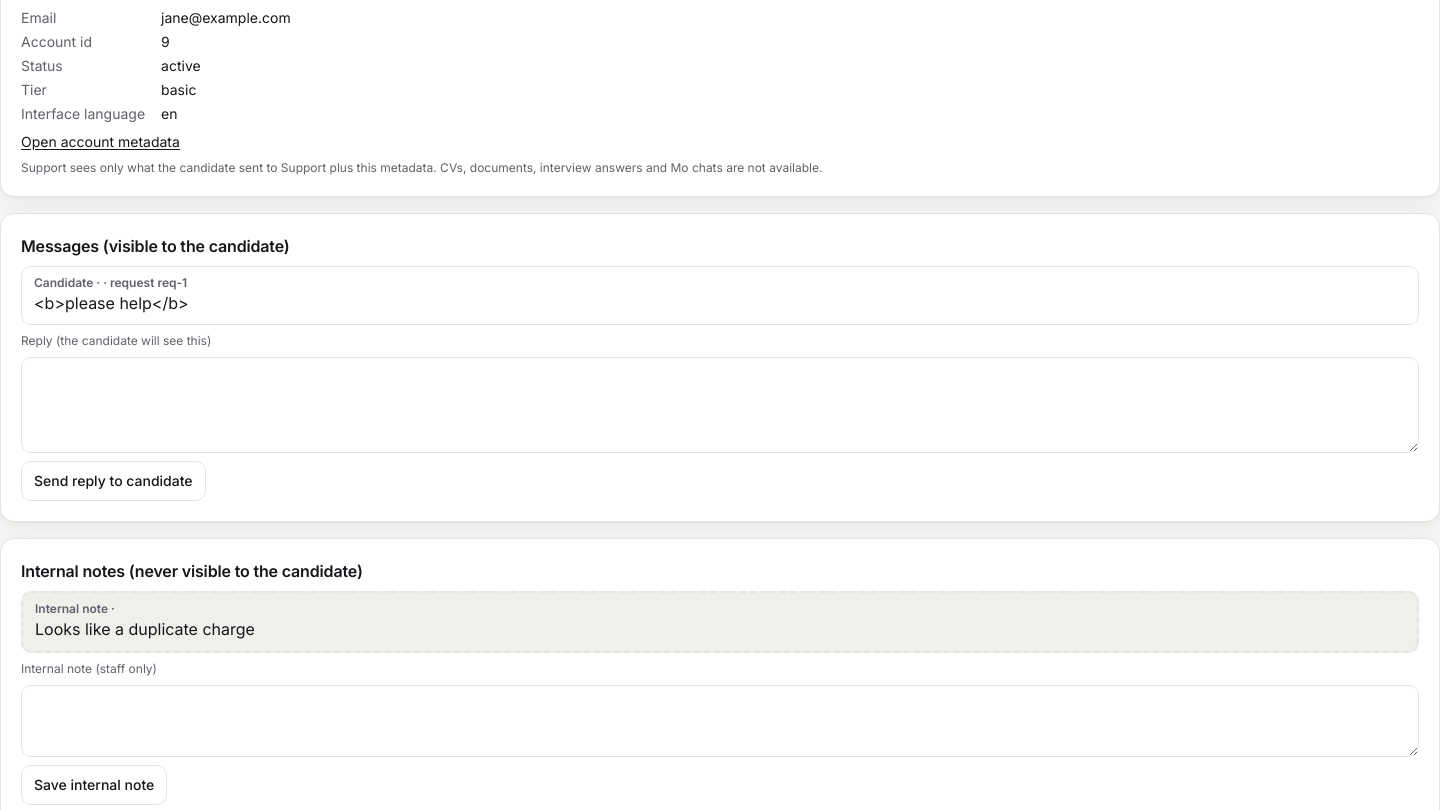
Test: Support ticket detail › sends a customer-visible reply and saves a separate internal note
(page scrolled)
In the text box labelled "Reply (the candidate will see this)": (720, 405) [21,357,1419,453], type "We refunded the duplicate."
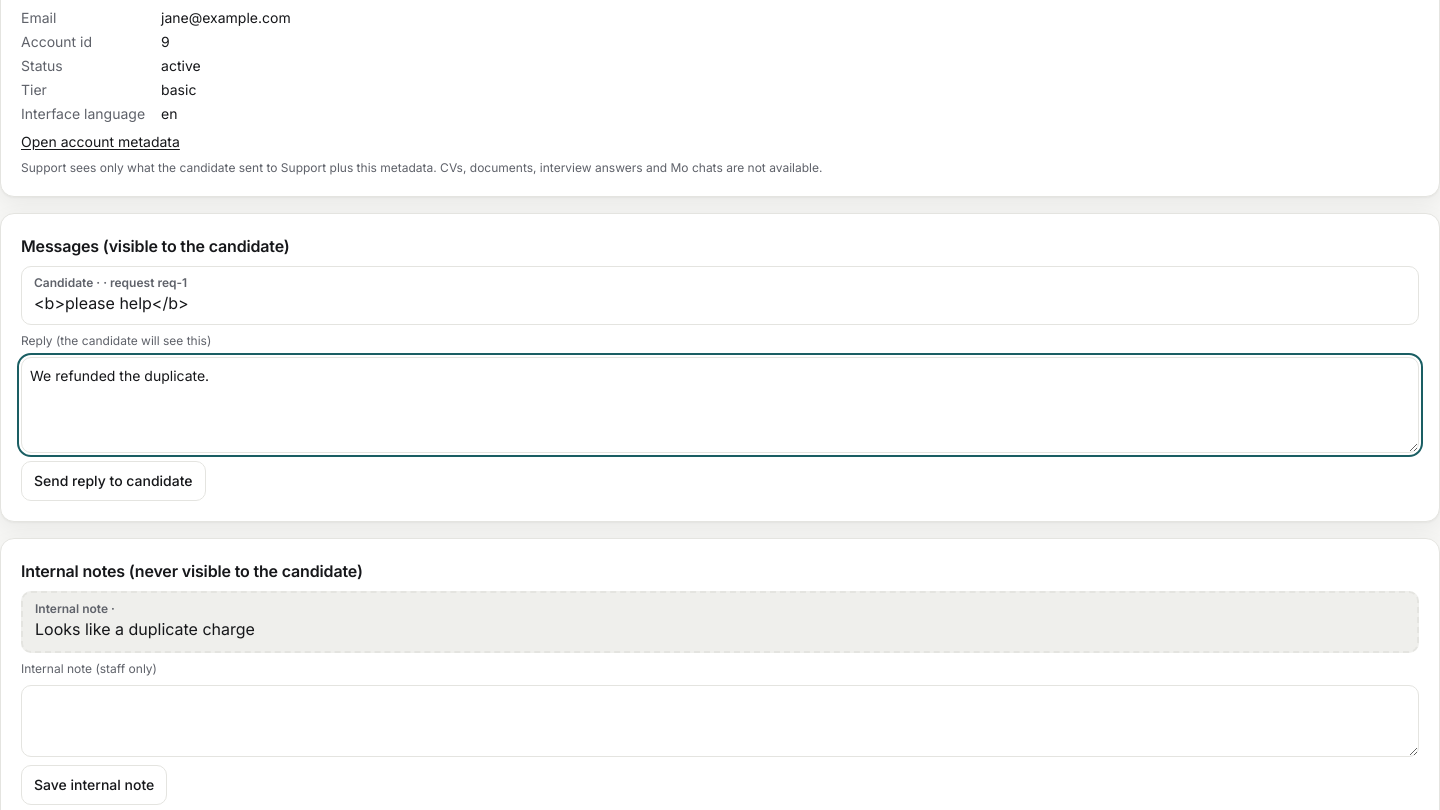
Click the button "Send reply to candidate": (113, 481) [21,461,206,501]
(page scrolled)
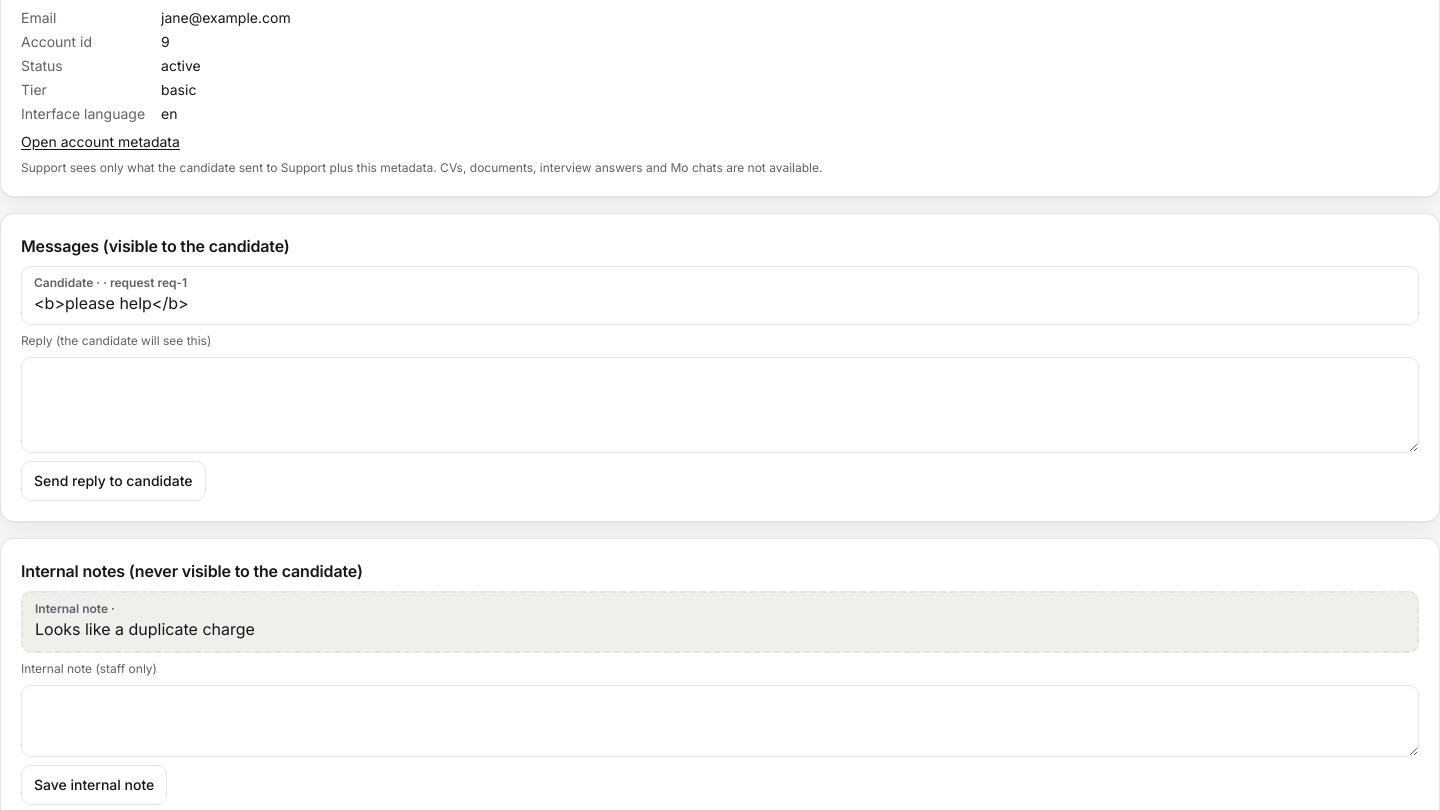
In the text box labelled "Internal note (staff only)": (720, 721) [21,685,1419,757], type "Checked billing logs"
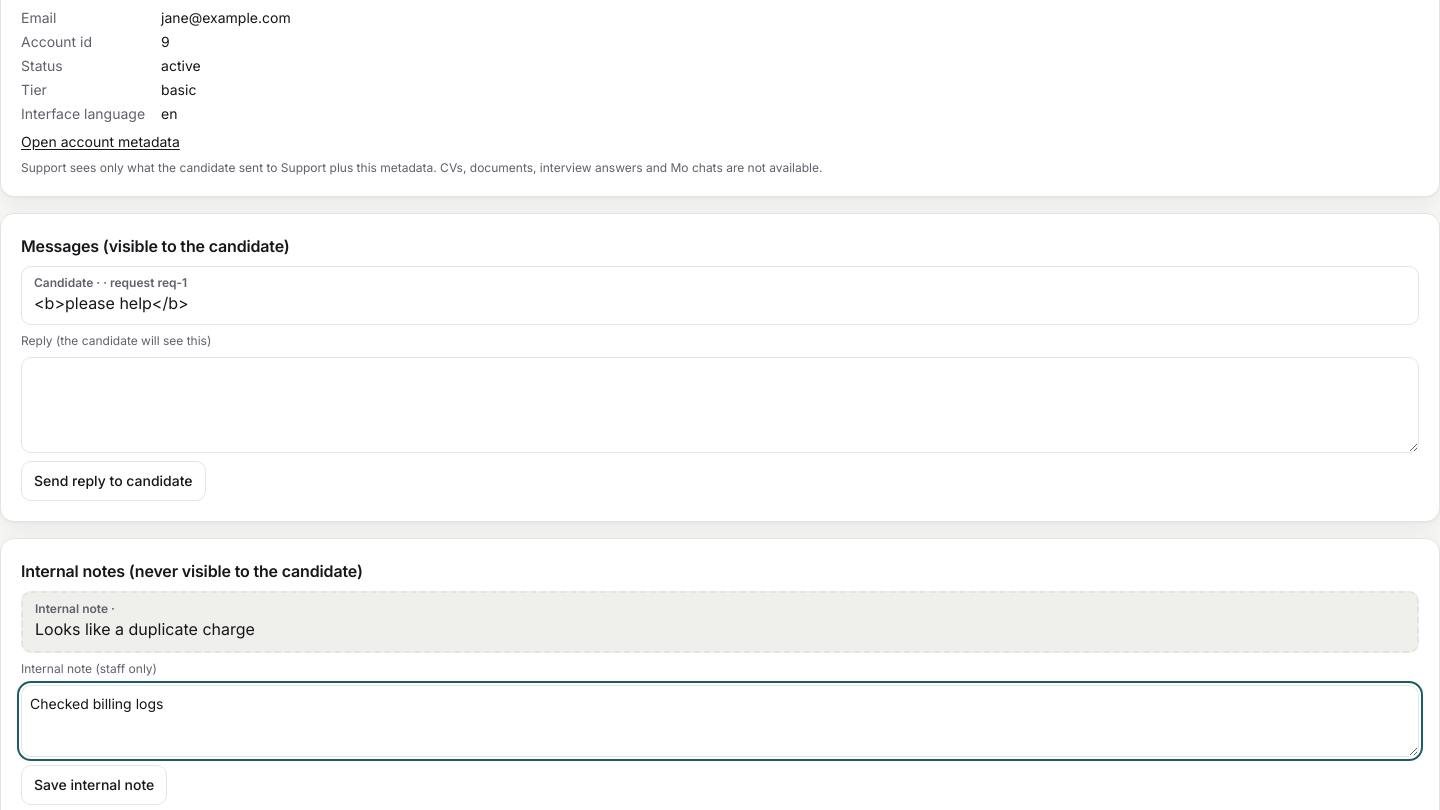
Click the button "Save internal note": (94, 785) [21,765,167,805]
(page scrolled)
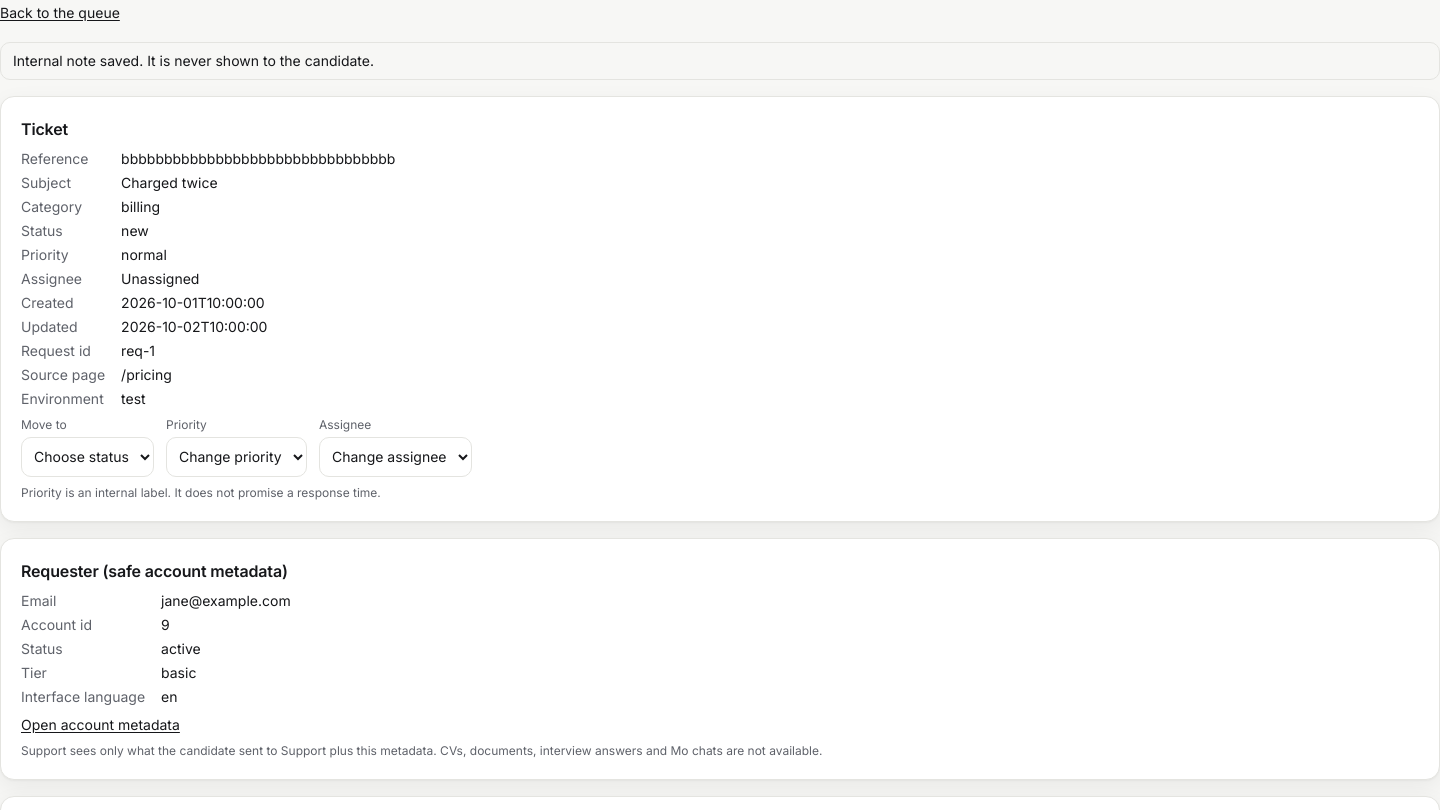
Check: the text "Internal note saved. It is never shown to the candidate." is shown, box [0,42,1439,80]
